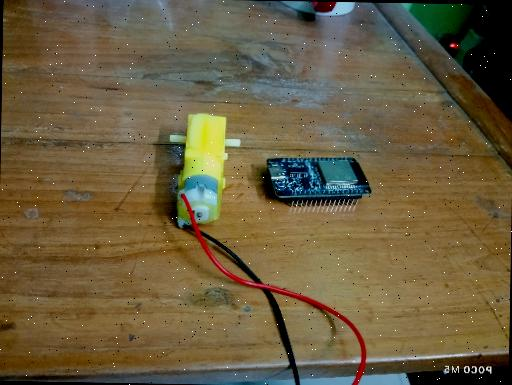Esp32: (266, 154, 372, 210)
Motor: (169, 112, 242, 225)
